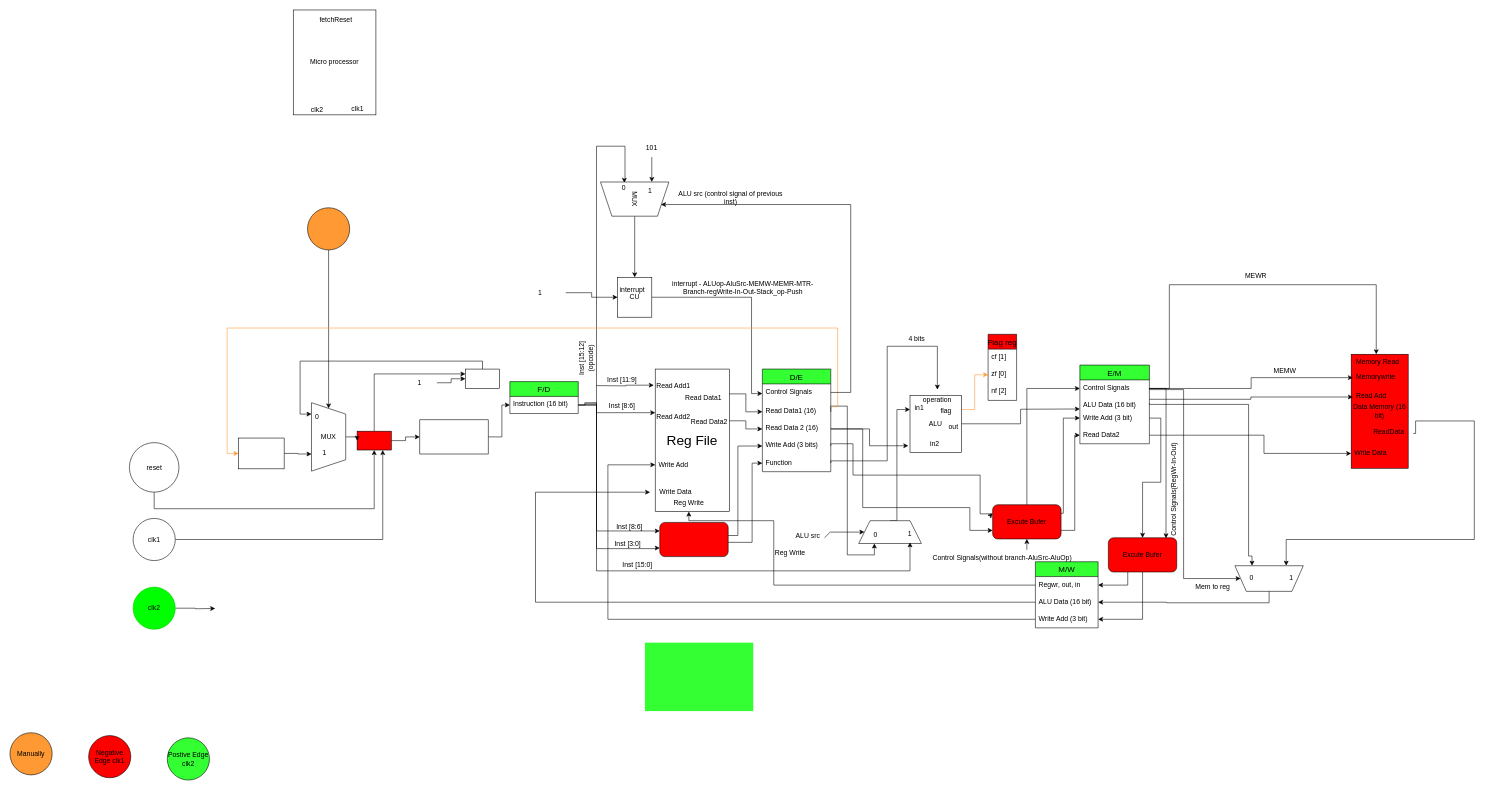
Image size: 1489x790. Some labels were removed from this diagram. Here are the shapes that lost their labels. From the top down, the centre of each, then its label:
At pixel 328 228: "branch".
At pixel 482 378: "ADD".
At pixel 261 453: "SignExtend".
At pixel 374 440: "PC (32)".
At pixel 453 436: "Code Memory".
At pixel 693 539: "Decode buffer".
At pixel 699 676: "Reg File write +ve Read -ve clk1".
